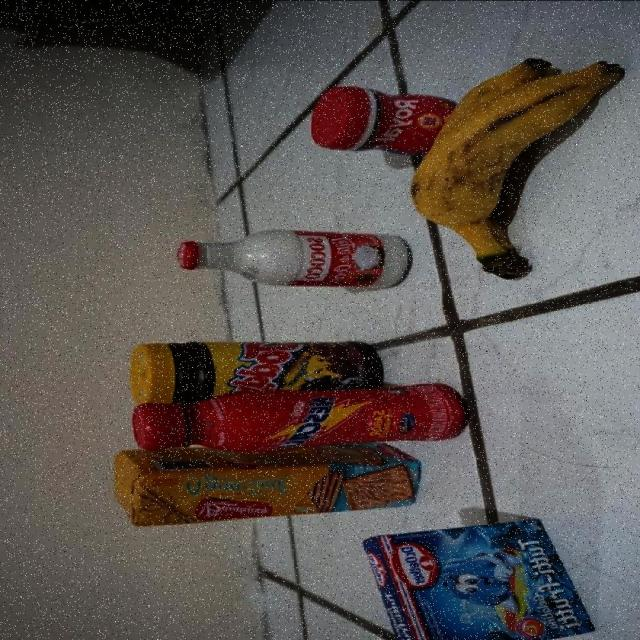Banana: (413, 62, 626, 280)
ChocolateMilk: (133, 390, 464, 450)
ChocolatePowder: (127, 338, 382, 391)
CoconutMilk: (166, 220, 408, 295)
Cracker: (111, 450, 428, 516)
Gelatine: (363, 516, 592, 640)
Yeast: (313, 88, 437, 156)
